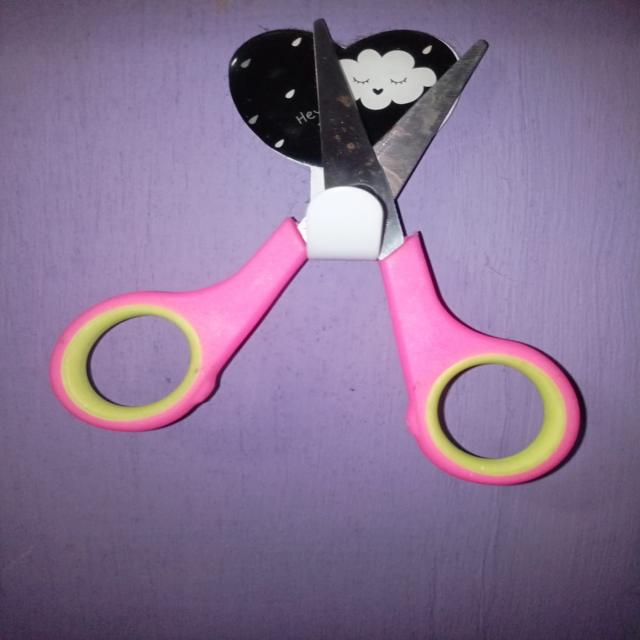scissor: (60, 29, 596, 486)
